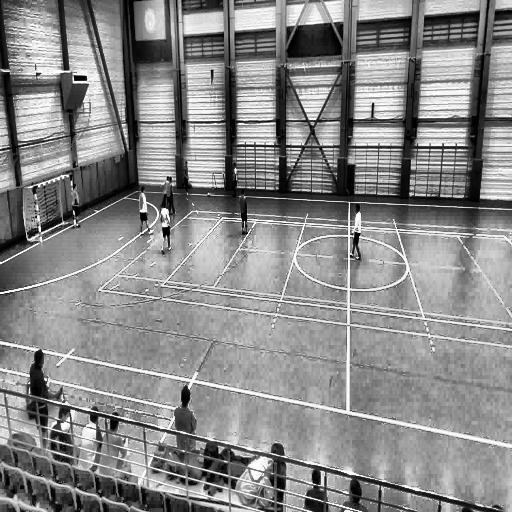ball: (206, 190, 211, 196)
player: (348, 202, 362, 260), (158, 196, 172, 254), (138, 185, 152, 237), (160, 172, 173, 211), (181, 158, 192, 197), (72, 182, 81, 229), (239, 189, 248, 235), (166, 176, 174, 218), (232, 164, 239, 196)
